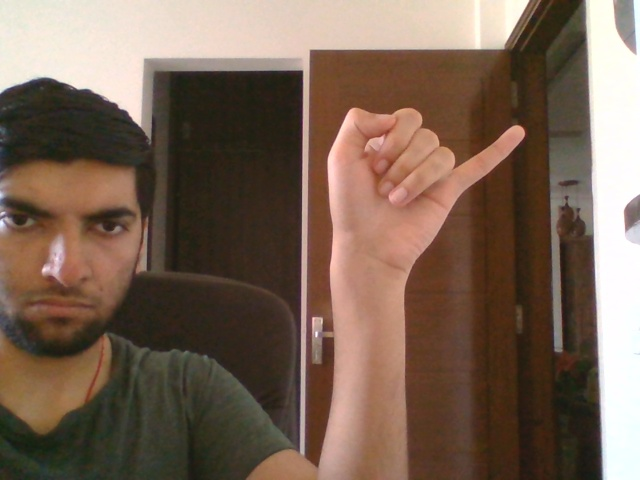LetterJ: (326, 107, 526, 274)
